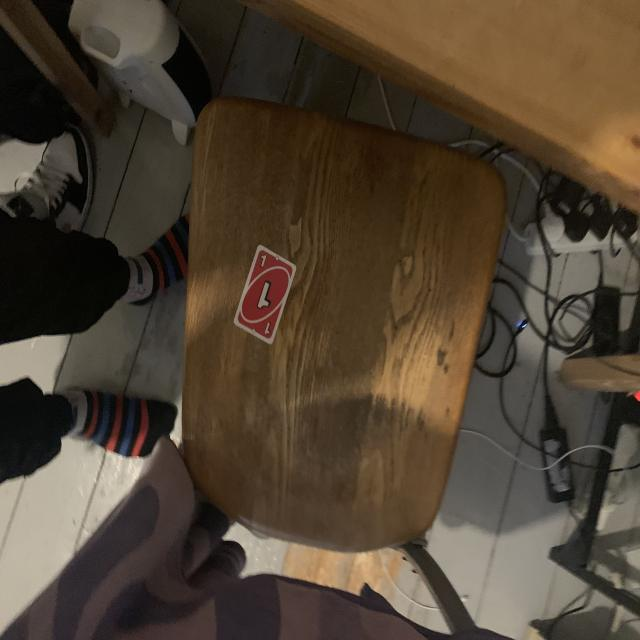lred-1: (258, 252, 270, 270)
